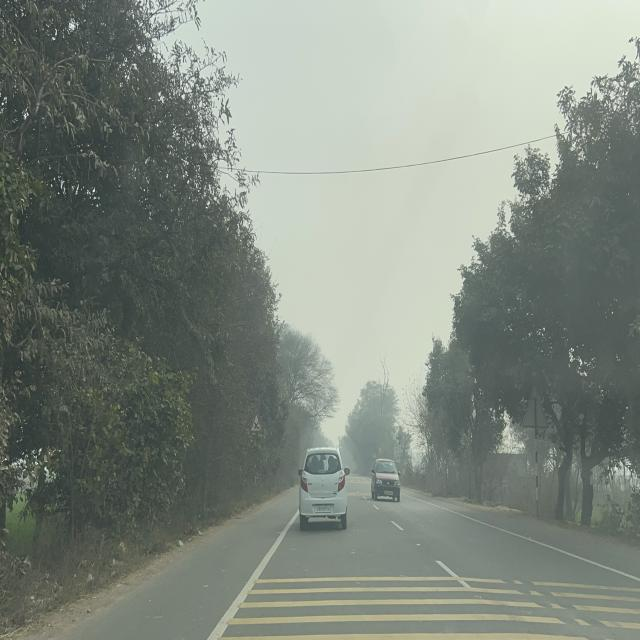CROSS_ROAD: (250, 411, 263, 433)
